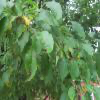Apple Scab Leaf: (24, 44, 38, 83)
